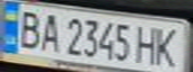2: (60, 14, 84, 56)
3: (78, 16, 100, 60)
4: (97, 18, 118, 61)
5: (112, 20, 136, 63)
A: (36, 10, 63, 52)
B: (12, 7, 45, 50)
H: (133, 22, 160, 65)
K: (151, 24, 184, 69)
